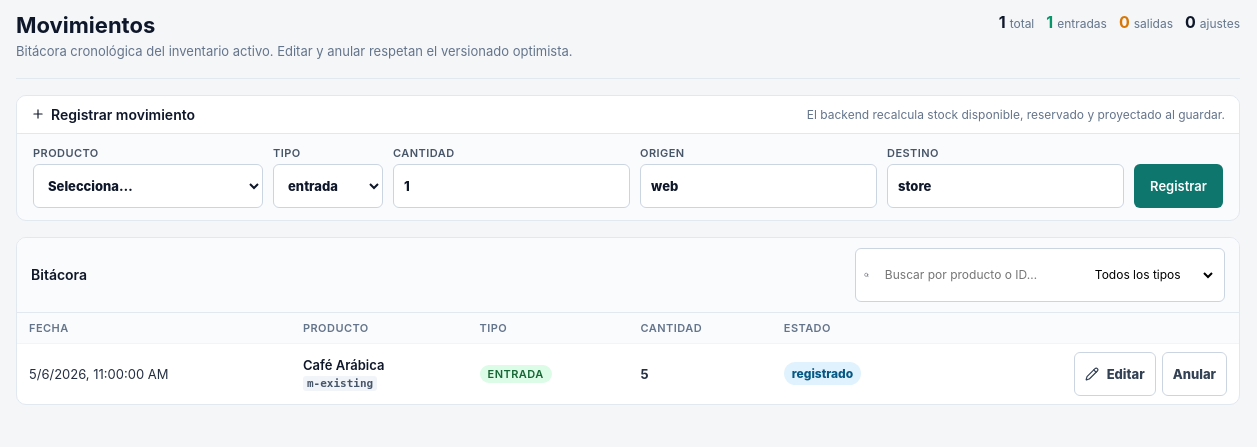
InventoryMovementsPage › shows a Zod error when cantidad < 1
Select "Café Arábica" in the dropdown labelled "Producto" at (148, 186), box [33,164,263,208]
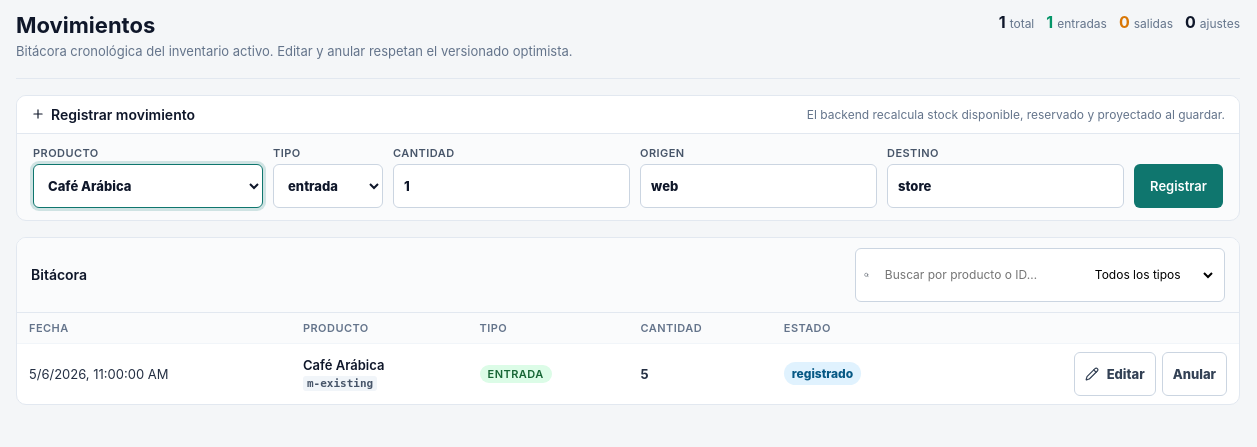
Replace the text in the number field labelled "Cantidad" with "0" at (512, 186), box [393,164,630,208]
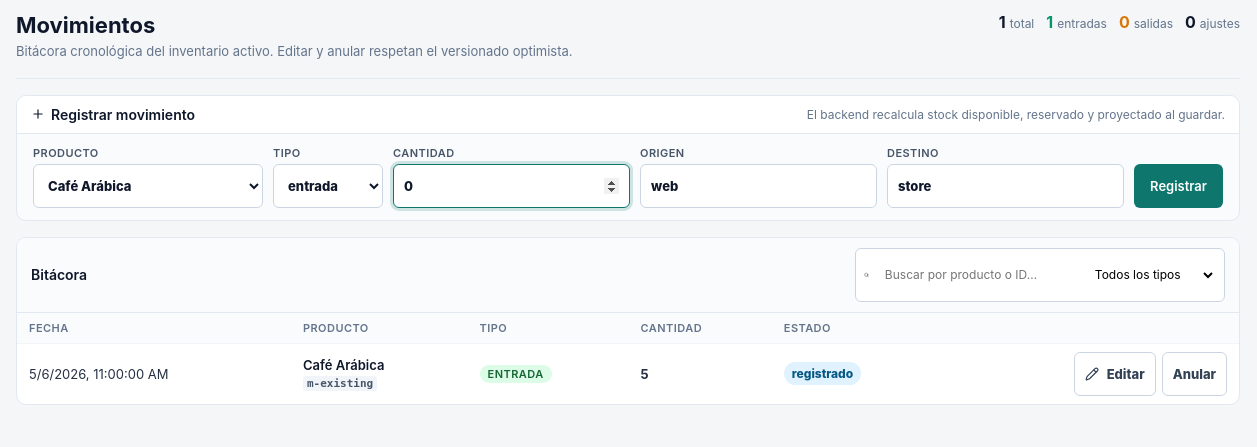
Click the button "Registrar" at (1179, 186), box [1134,164,1223,208]
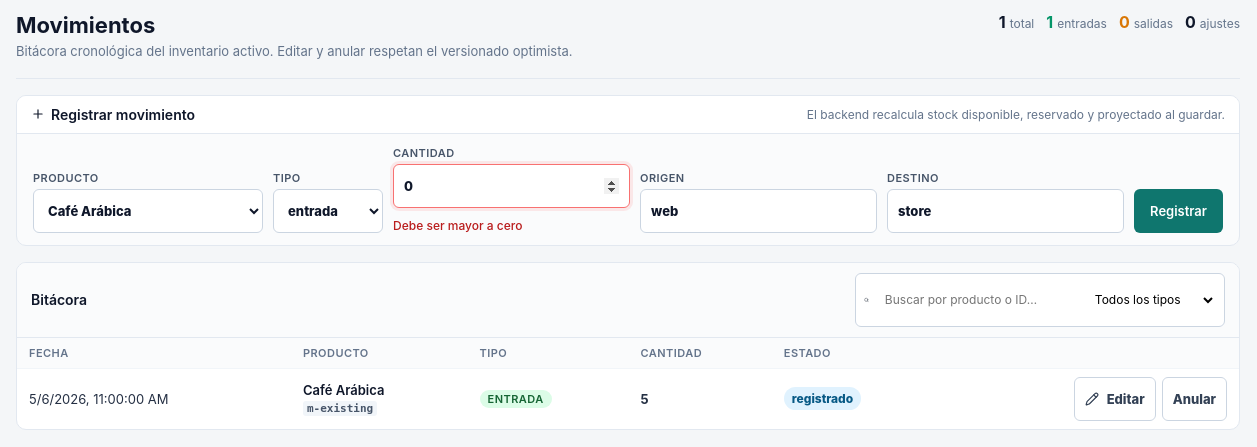
Now the text "Debe ser mayor a cero" is shown, box [393,218,522,232]
